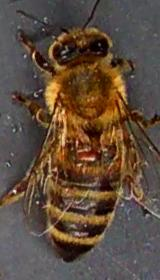varroa_mite: (70, 138, 102, 167)
